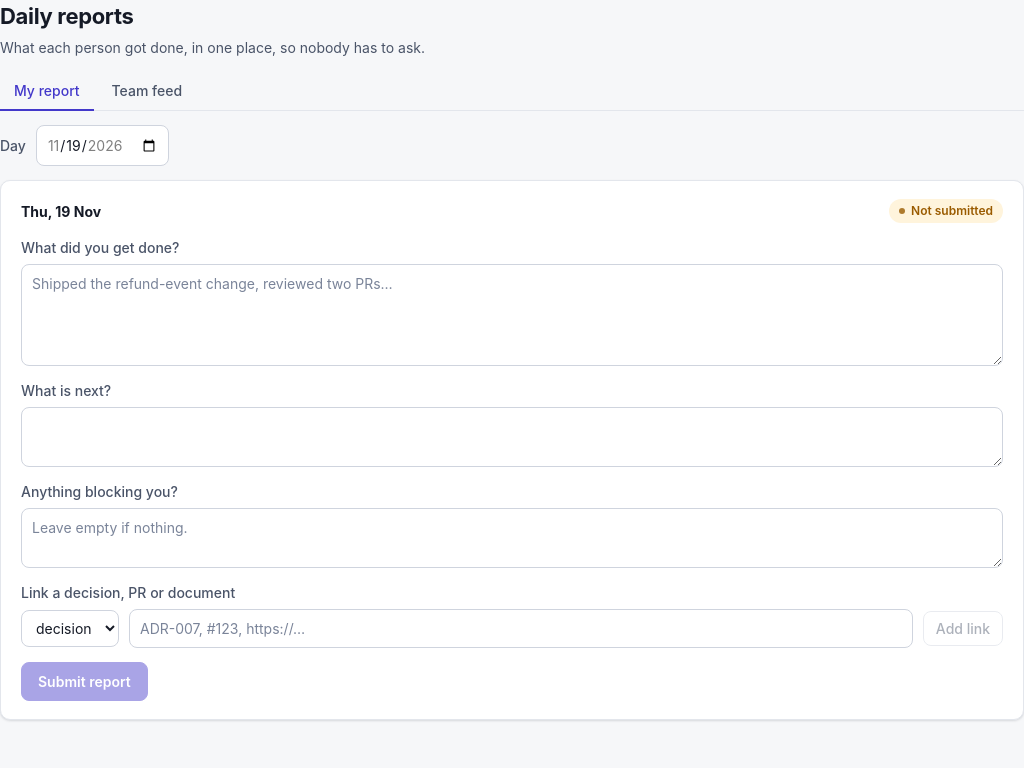
Test case: ReportsPage › submits a report with a link and says it was saved
Expected: the button "Submit report" is disabled, 21,662 -> 148,701
Type "Shipped the fix" into the text box labelled "What did you get done?" at (512, 315), box 21,264 -> 1003,366
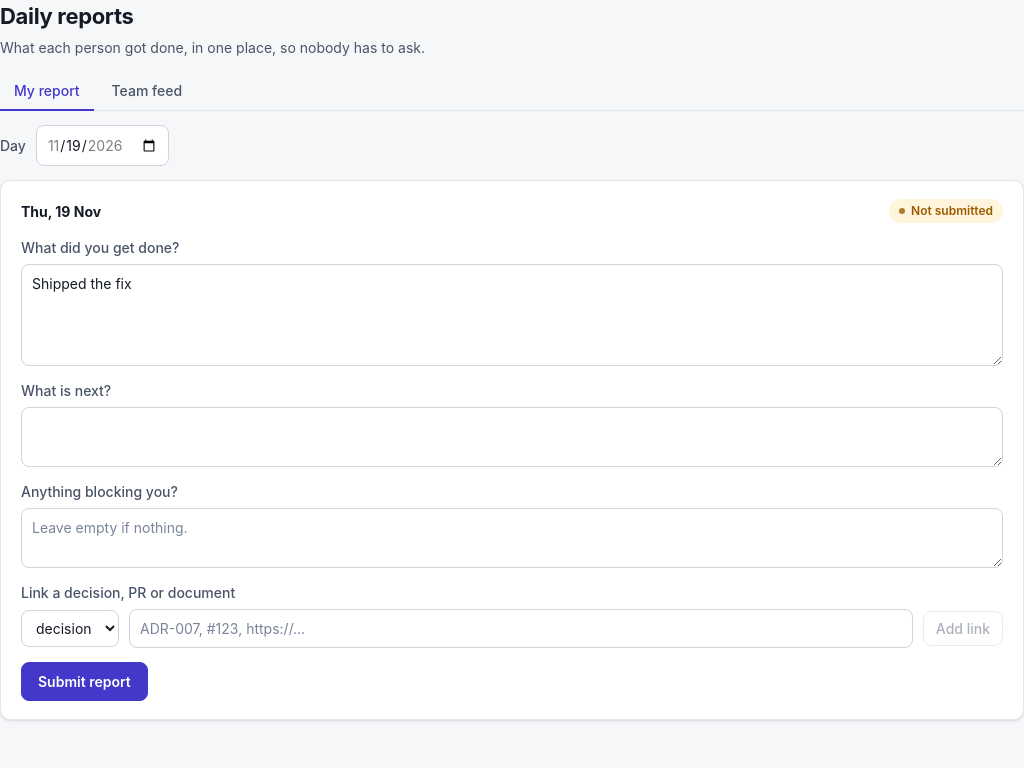
Type "ADR-007" into the field labelled "Link a decision, PR or document" at (521, 628), box 129,609 -> 913,648
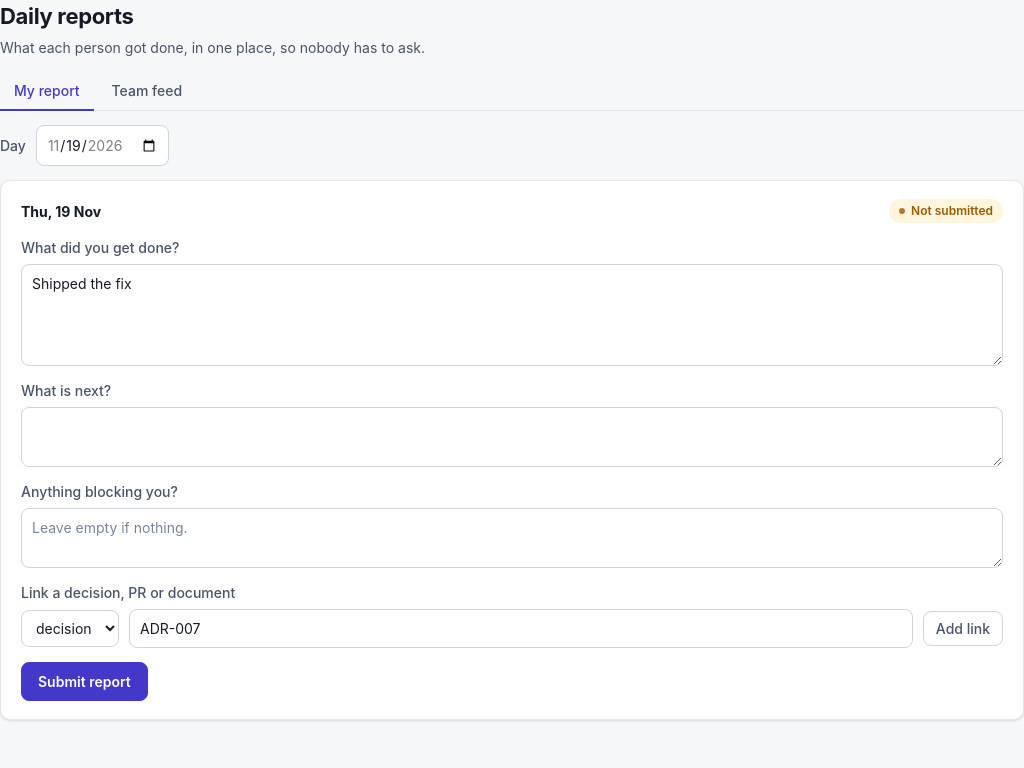
Click the button "Add link" at (963, 628), box 923,611 -> 1003,646
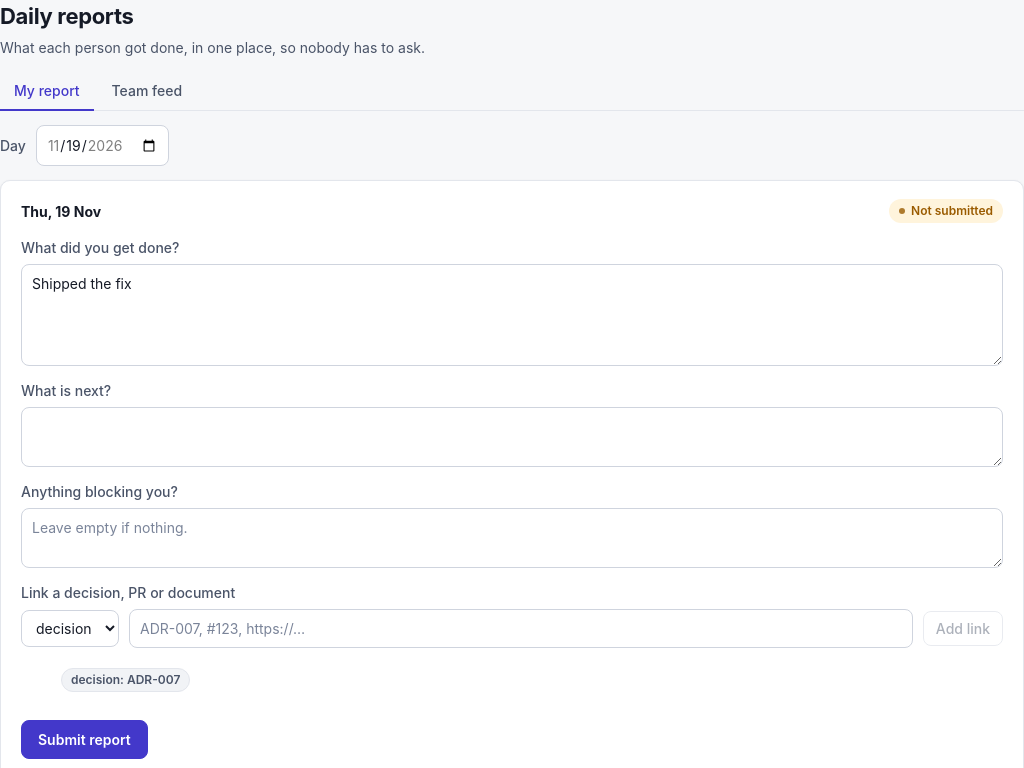
Click the button "Submit report" at (84, 740), box 21,720 -> 148,759
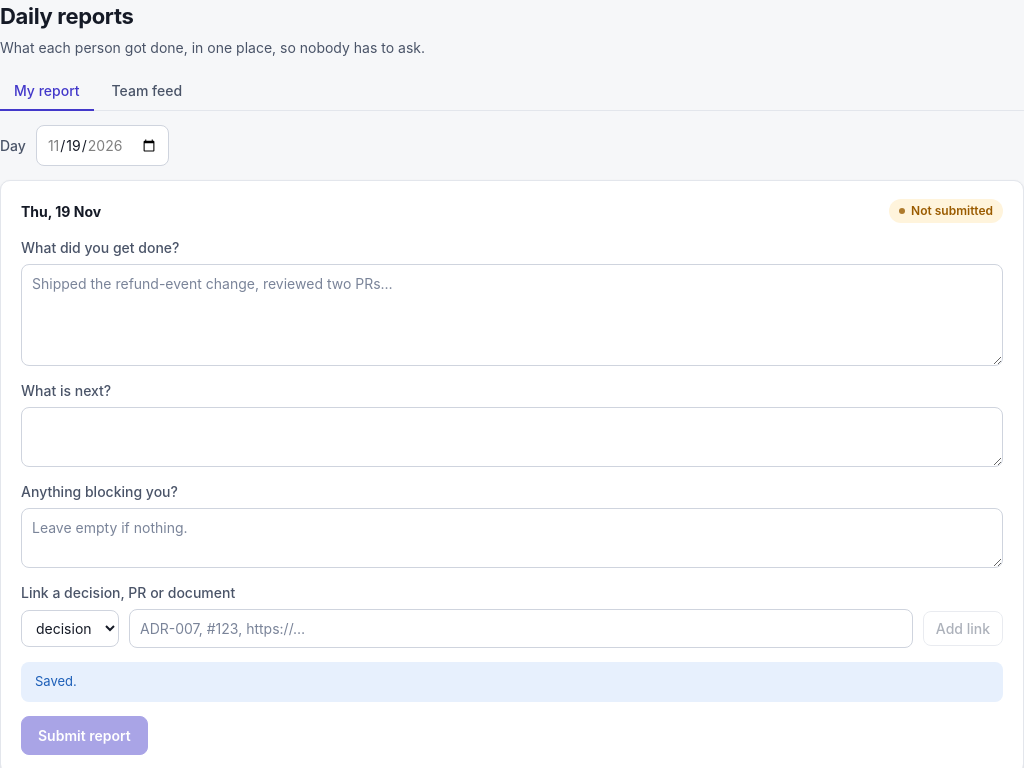
Now the text "Saved." is shown, box 21,662 -> 1003,702
